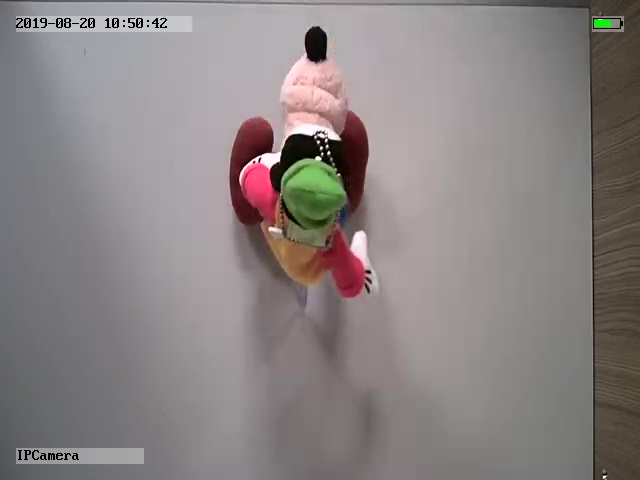goofy: (228, 24, 380, 302)
